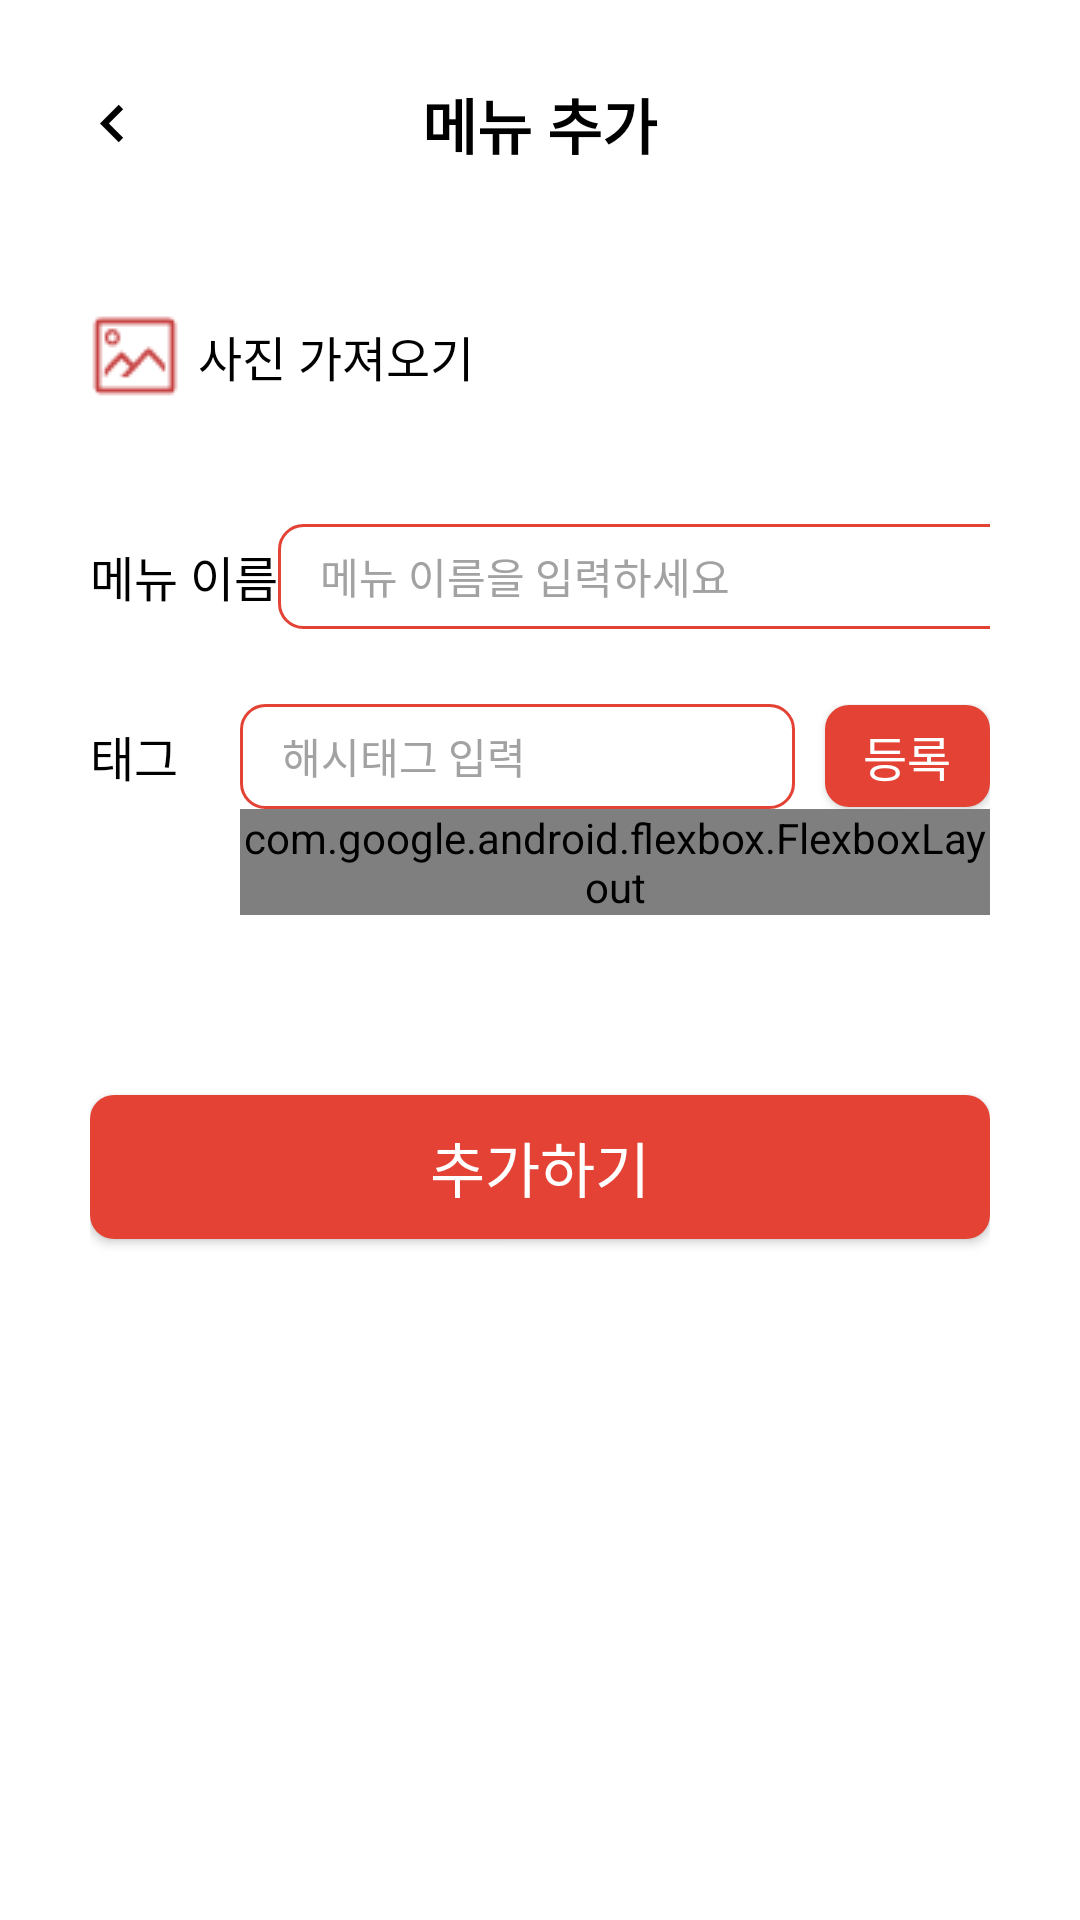

Icon click points for this 1080w x 1920h phone screenshot, format [x,y]:
navigate before: [111,123]
picture add: [135,355]
